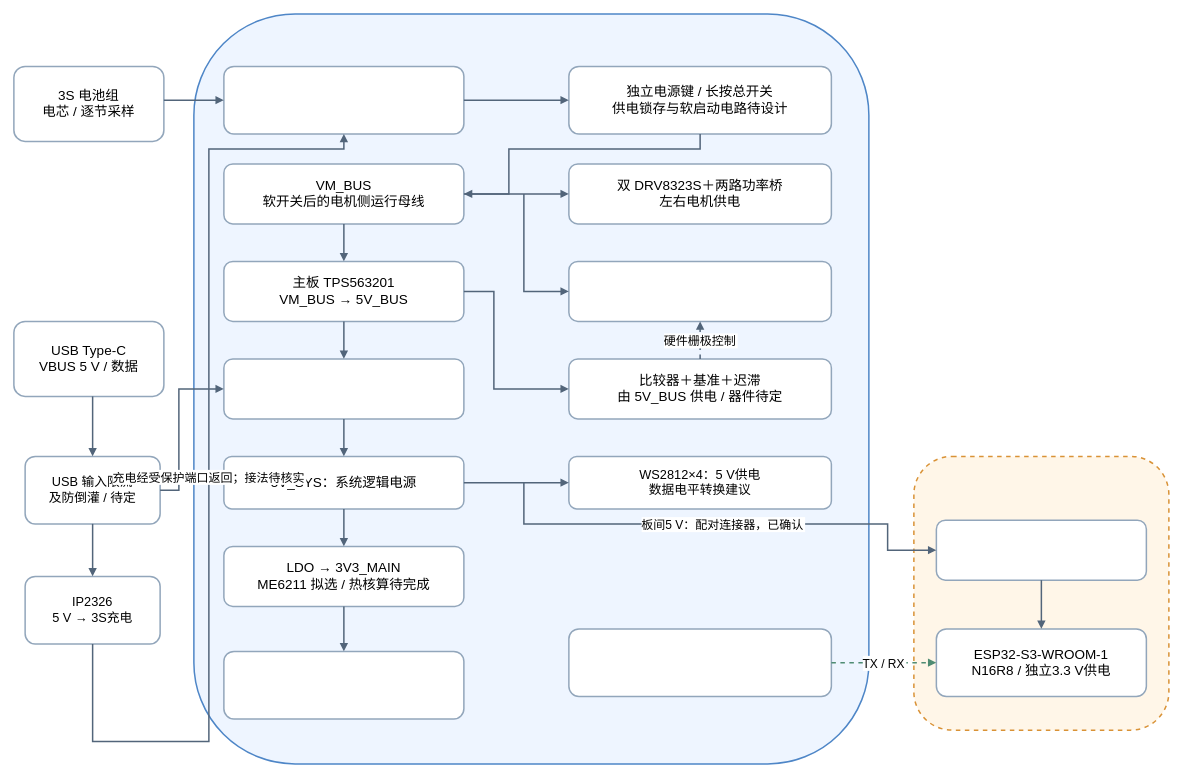
The diagram is 1182 pixels wide and 777 high, and some of its shapes have lost their labels. Here are the shapes that lost their labels. From the top down, the centre of each, then its label:
At point (343, 99): "CW1244ALBS 保护 / 均衡 具体功率路径待核实".
At point (700, 291): "共用制动电阻＋低侧 N-MOS 回生耗能支路".
At point (343, 388): "电源选择＋反向隔离 建议新增 / 器件待定".
At point (1041, 549): "独立 TPS563201 主板5 V输入 → 3V3_ESP".
At point (700, 662): "主控 UART TX / RX 与扩展板通信（3.3 V逻辑）".
At point (343, 684): "MCU / IMU / 主板逻辑 编码器板×2及外围按实际供电计".
